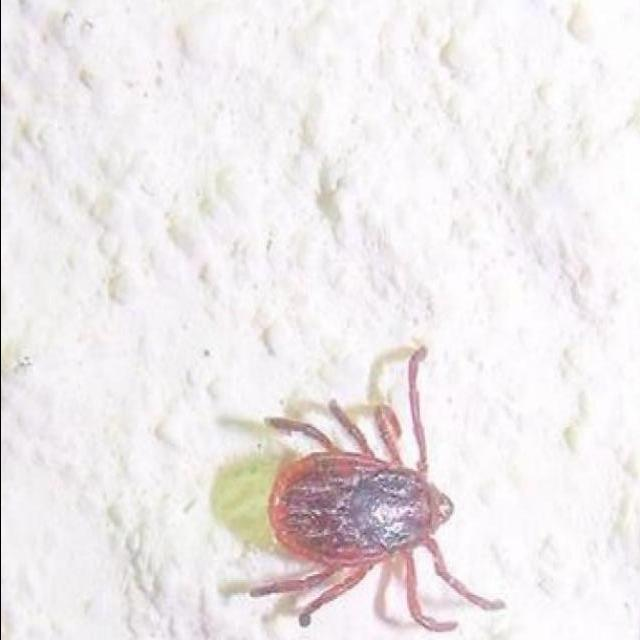Rhipicephalus Sanguineus-F: (224, 347, 505, 630)
